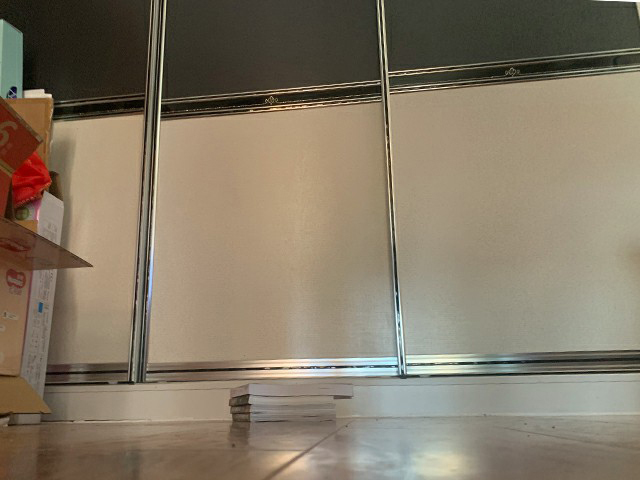book: (228, 382, 354, 423)
cabinet: (125, 57, 640, 422)
